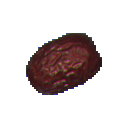gd: (16, 23, 119, 115)
